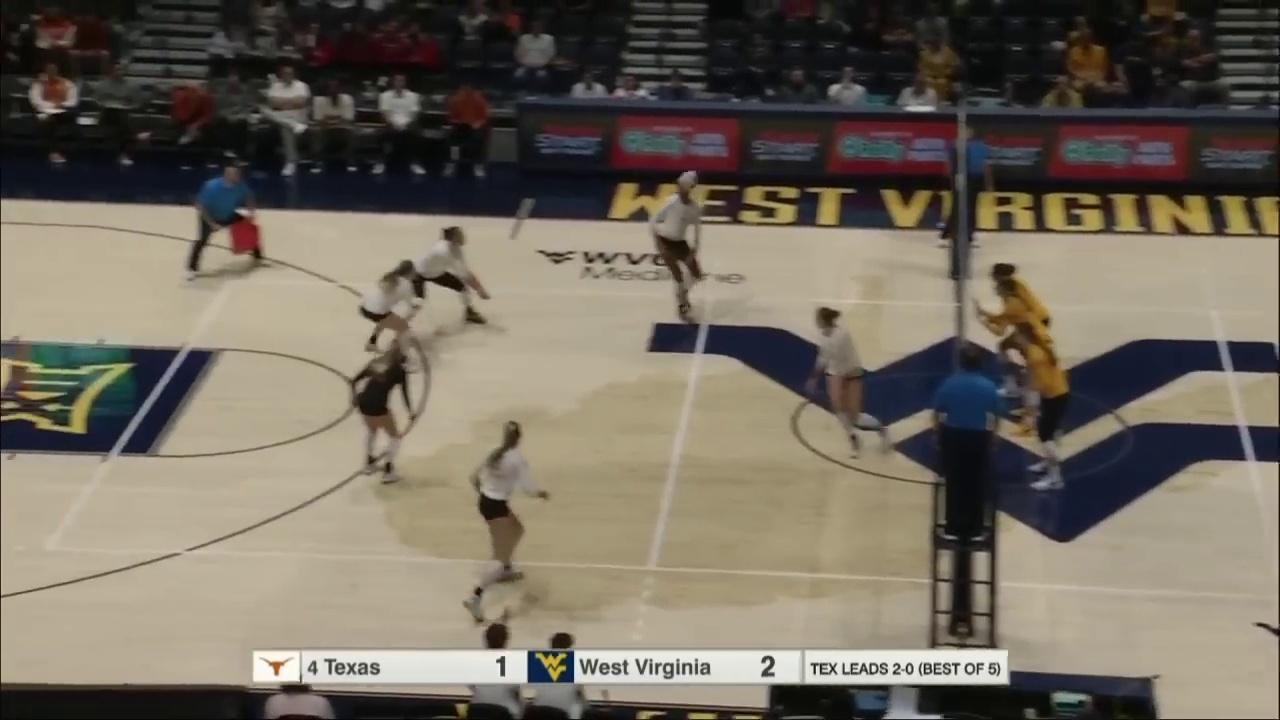player: (466, 419, 537, 622), (806, 303, 893, 459), (1010, 320, 1074, 489), (987, 257, 1053, 407), (647, 173, 713, 322), (991, 277, 1049, 436), (352, 335, 408, 486), (409, 229, 494, 326), (356, 258, 422, 365)
refree: (935, 349, 999, 545), (184, 165, 274, 279), (937, 126, 990, 251)
